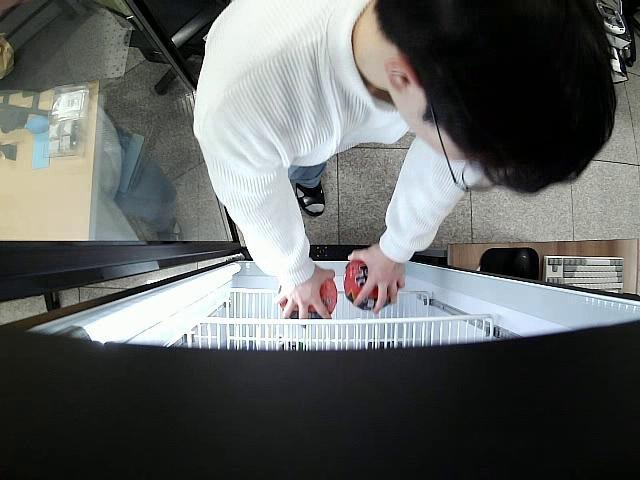01_ShinRamen_L: (342, 260, 392, 311), (278, 279, 337, 320)
